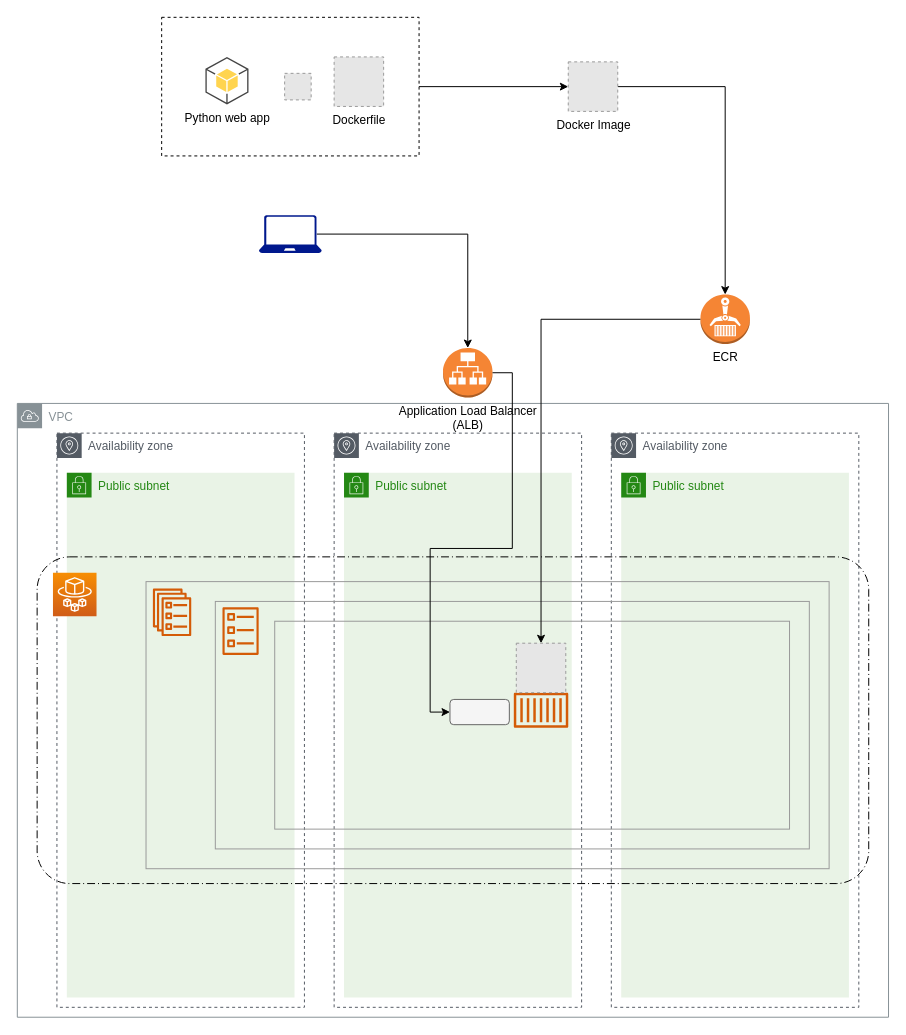
The diagram is 906 pixels wide and 1035 high, and some of its shapes have lost their labels. Grey dashed boxes stand in for pictures. Here are the shapes that lost their labels. From the top down, the centre of each, then its label:
At (289,233): "User".
At (74,594): "ECS Fargate Cluster".
At (171,612): "Service".
At (240,630): "Task".
At (479,711): "port 443".
At (540,709): "Container".
